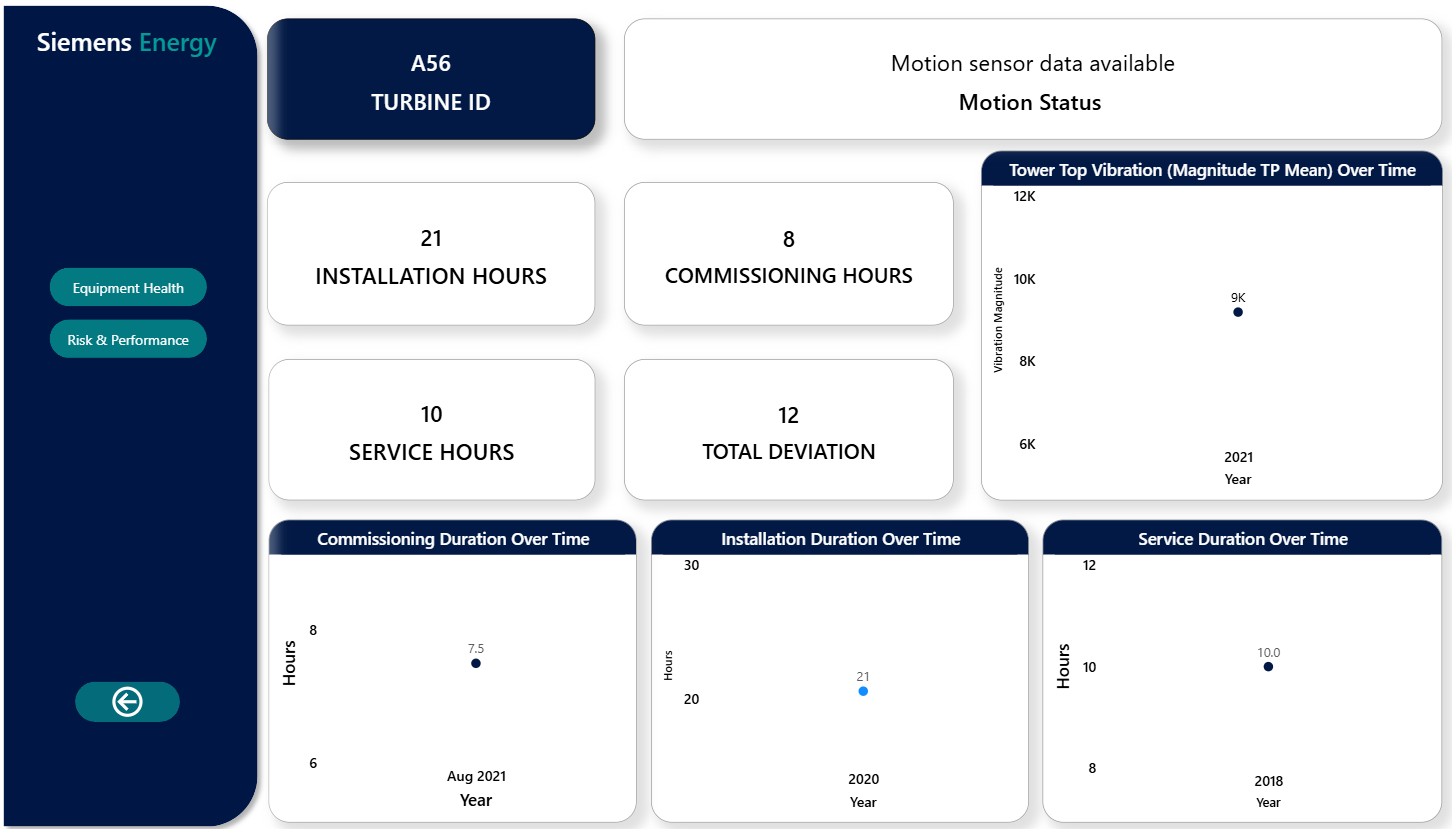

This screenshot's page, from the dashboard's own definition file:
{"tool":"powerbi","page":{"name":"Turbine Details","canvas":[1400,800],"ordinal":2},"visuals":[{"type":"card","title":"Turbine ID","fields":{"Values":["Min(Mapping_Turbines.Turbine_ID)"]},"box":[260.4,20.8,312.5,115.6],"z":0},{"type":"card","title":"Turbine ID","fields":{"Values":["_Measure.Hours Installation"]},"box":[260.3,177.8,312.7,136.5],"z":1000},{"type":"card","title":"Turbine ID","fields":{"Values":["_Measure.Hours Commissioning"]},"box":[600,177.8,314.3,136.5],"z":2000},{"type":"card","title":"Turbine ID","fields":{"Values":["_Measure.Hours Service"]},"box":[261.9,346,311.1,134.9],"z":3000},{"type":"lineChart","title":"Installation Duration Over Time","fields":{"Category":["Installation.Installation_Date.Variation.Date Hierarchy.Year","Installation.Installation_Date.Variation.Date Hierarchy.Quarter","Installation.Installation_Date.Variation.Date Hierarchy.Month","Installation.Installation_Date.Variation.Date Hierarchy.Day"],"Y":["Sum(Installation.Installation_NET_Duration)"]},"box":[625.4,498.4,360.3,288.9],"z":4000},{"type":"lineChart","title":"Service Duration Over Time ","fields":{"Category":["Service.Service_Date.Variation.Date Hierarchy.Year","Service.Service_Date.Variation.Date Hierarchy.Quarter","Service.Service_Date.Variation.Date Hierarchy.Month","Service.Service_Date.Variation.Date Hierarchy.Day"],"Y":["Sum(Service.Service_NET_Duration)"]},"box":[998.4,498.4,381,288.9],"z":5000},{"type":"lineChart","title":"Commissioning Duration Over Time","fields":{"Category":["Commissioning.Comm_Date.Variation.Date Hierarchy.Year","Commissioning.Comm_Date.Variation.Date Hierarchy.Quarter","Commissioning.Comm_Date.Variation.Date Hierarchy.Month","Commissioning.Comm_Date.Variation.Date Hierarchy.Day"],"Y":["Sum(Commissioning.Comm_NET_Duration)"]},"box":[261.9,498.4,350.8,288.9],"z":6000},{"type":"lineChart","title":"Tower Top Vibration (Magnitude TP Mean) Over Time","fields":{"Category":["Motion_Sensors.TimestampUtc.Variation.Date Hierarchy.Year","Motion_Sensors.TimestampUtc.Variation.Date Hierarchy.Quarter","Motion_Sensors.TimestampUtc.Variation.Date Hierarchy.Month","Motion_Sensors.TimestampUtc.Variation.Date Hierarchy.Day"],"Y":["Sum(Motion_Sensors.Magnitude_TP_Mean)"]},"box":[939.7,147.6,439.7,333.3],"z":7000},{"type":"card","title":"Turbine ID","fields":{"Values":["_Measure.Deviation Total"]},"box":[600,346,314.3,134.9],"z":8000},{"type":"card","title":"Turbine ID","fields":{"Values":["_Measure.Motion Status Text"]},"box":[600,20.8,779.2,115.6],"z":9000},{"type":"shape","box":[0,0,260,800],"z":10000},{"type":"actionButton","box":[77.1,652.9,100,38.6],"z":11000},{"type":"textbox","box":[35.4,20.8,184.4,57.3],"z":12000},{"type":"pageNavigator","box":[52.9,258.6,150,87.1],"z":13000}]}

Visuals, with their boxes in screenshot pixels (x1, y1, x2, y2), scaled from the page's 1400x800 canvas onto the 1452x829 screenshot:
"Turbine ID" card: 270 22 594 141
"Turbine ID" card: 270 184 594 326
"Turbine ID" card: 622 184 948 326
"Turbine ID" card: 272 359 594 498
"Installation Duration Over Time" lineChart: 649 516 1022 816
"Service Duration Over Time " lineChart: 1035 516 1431 816
"Commissioning Duration Over Time" lineChart: 272 516 635 816
"Tower Top Vibration (Magnitude TP Mean) Over Time" lineChart: 975 153 1431 498
"Turbine ID" card: 622 359 948 498
"Turbine ID" card: 622 22 1430 141
shape: 0 0 270 828
actionButton: 80 677 184 717
textbox: 37 22 228 81
pageNavigator: 55 268 210 358
